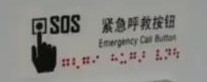Braille: (61, 58, 70, 70), (138, 50, 146, 63), (72, 57, 80, 69), (155, 49, 163, 61), (92, 56, 100, 67), (119, 53, 127, 64), (129, 52, 137, 63), (83, 56, 90, 68), (111, 53, 118, 65), (173, 48, 180, 59), (165, 48, 171, 60)
